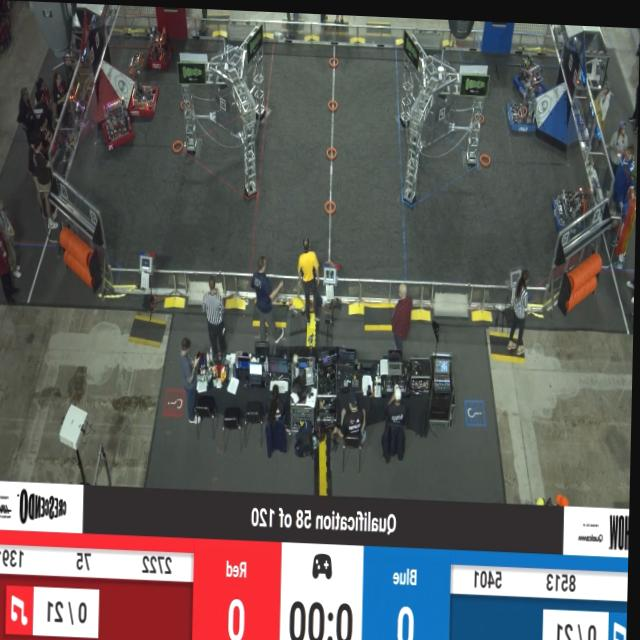Note: (167, 130, 187, 158), (323, 49, 343, 76), (321, 193, 341, 217), (479, 143, 495, 168), (323, 140, 341, 162), (326, 87, 340, 114), (178, 90, 193, 114), (473, 102, 488, 125)
Robot: (123, 40, 161, 130), (90, 90, 143, 150), (551, 162, 593, 236), (509, 43, 551, 100), (505, 77, 541, 134), (140, 14, 171, 76)
